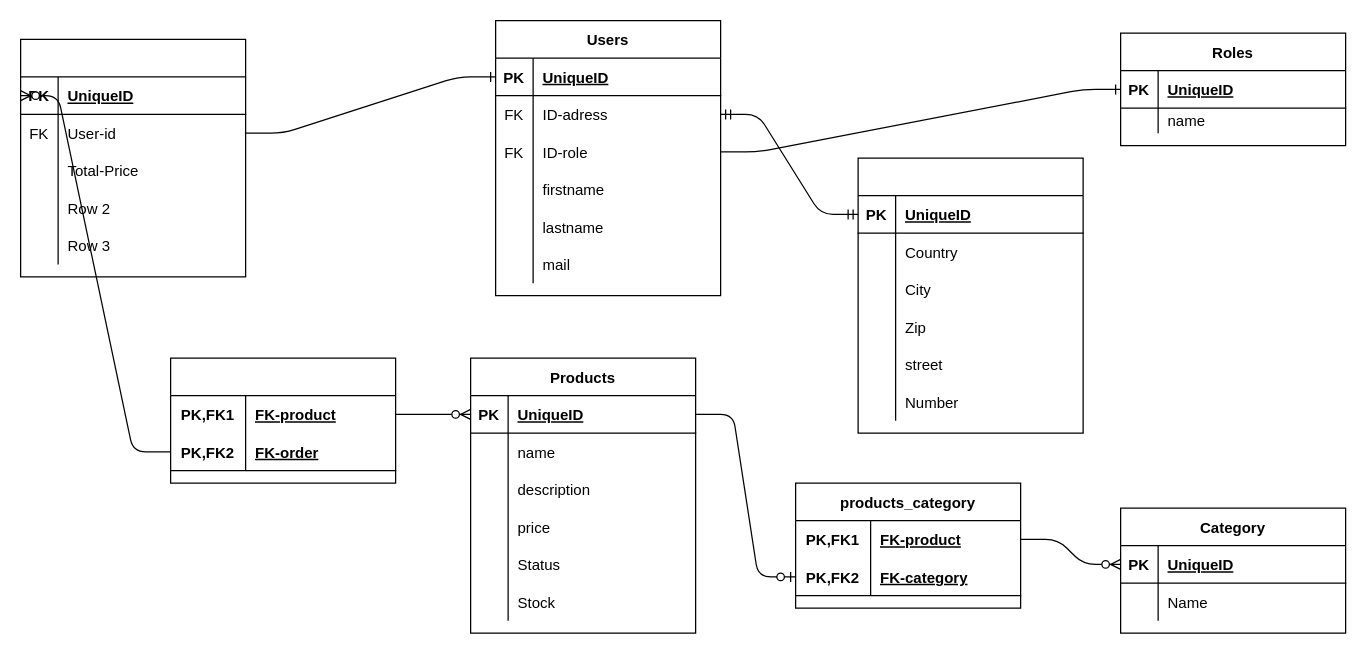
This 1366x654 diagram has some shape labels left out. The box of each missing label's shape, as (x1, y1, x2, y2) in pixels:
Adress: (857, 157, 1083, 433)
order-product: (169, 357, 396, 483)
Orders: (19, 38, 246, 277)
